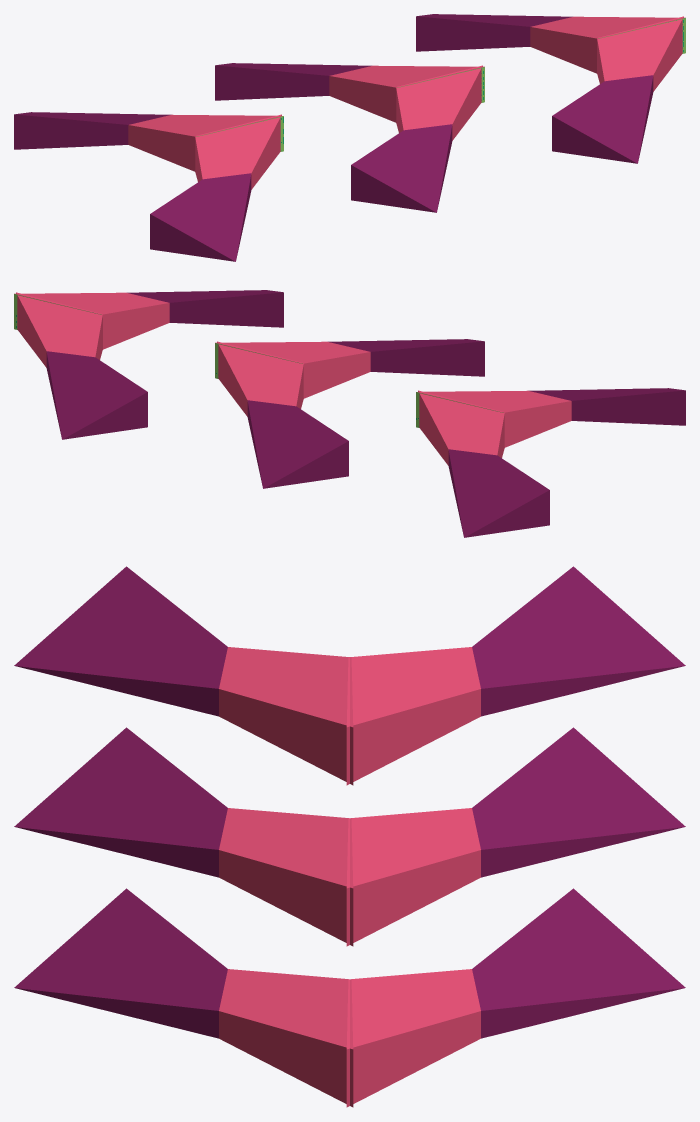
File: Speedup.glb
3 renders of one model, top to bottom at view 1: azimuth 30°, elevation 25°; view 2: azimuth 150°, elevation 25°; view 3: azimuth 270°, elevation 25°, orthographic. The views are drawn at different scales.
Visible parts, largest first — view 1: Speed arrows; view 2: Speed arrows; view 3: Speed arrows.
Boxes of the visible parts, left/top/right/bottom form: Speed arrows: left=14, top=14, right=685, bottom=261; Speed arrows: left=14, top=290, right=685, bottom=537; Speed arrows: left=14, top=566, right=685, bottom=1107.
Bounding box in the file's own units: 0.8903 × 0.05 × 0.5234.
1 material, 1 textured.
